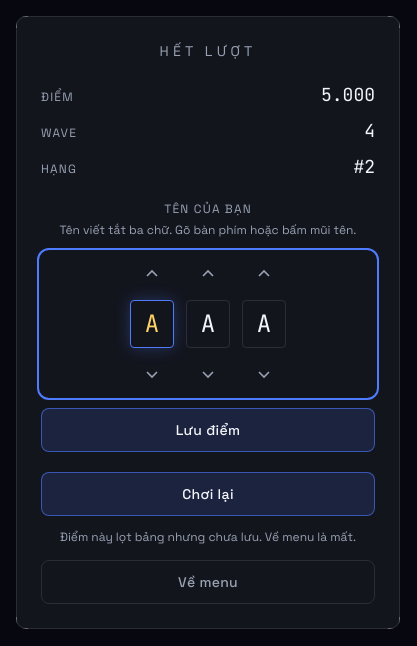
Scenario: GameOverOverlay — US-02 › lưu xong thì ô nhập tên biến mất — không lưu được hai lần
Click the button "Lưu điểm" at (208, 430), box [41,408,375,452]
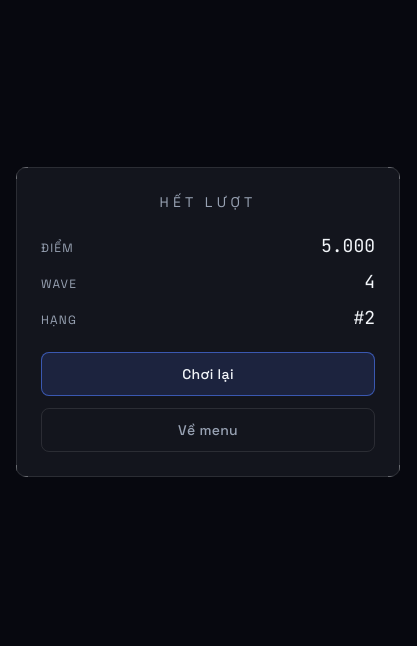
Expected: the button "Lưu điểm" is gone
